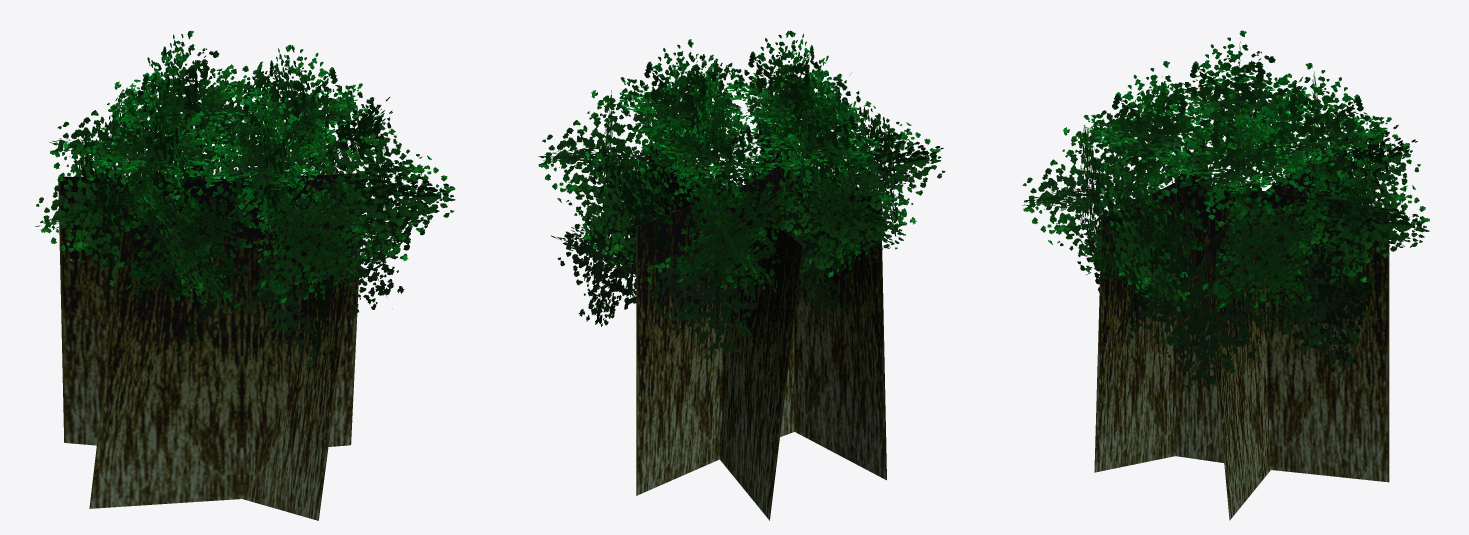
Rendered from els_2.fbx.
3 views of the same model, side by side, from view 1: azimuth 30°, elevation 25°; view 2: azimuth 150°, elevation 25°; view 3: azimuth 270°, elevation 25° (orthographic). The views are drawn at different scales.
Parts seen in each view (by area): view 1: els_2; view 2: els_2; view 3: els_2.
Boxes of the visible parts, x1,y1,x2,y2 form: els_2: (35, 30, 455, 520); els_2: (538, 30, 945, 520); els_2: (1022, 30, 1429, 520).
Bounding box in the file's own units: 1219 × 1221 × 1215.
